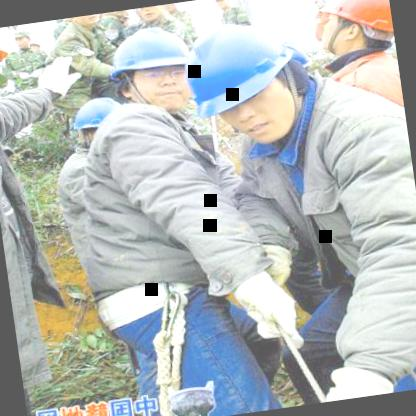head: (130, 4, 168, 26), (5, 26, 35, 53), (62, 14, 100, 32), (102, 9, 130, 21), (160, 2, 184, 16), (212, 0, 237, 11)
helmet: (172, 1, 326, 158), (97, 17, 206, 120), (303, 0, 397, 71), (67, 96, 122, 153), (0, 26, 16, 111)
